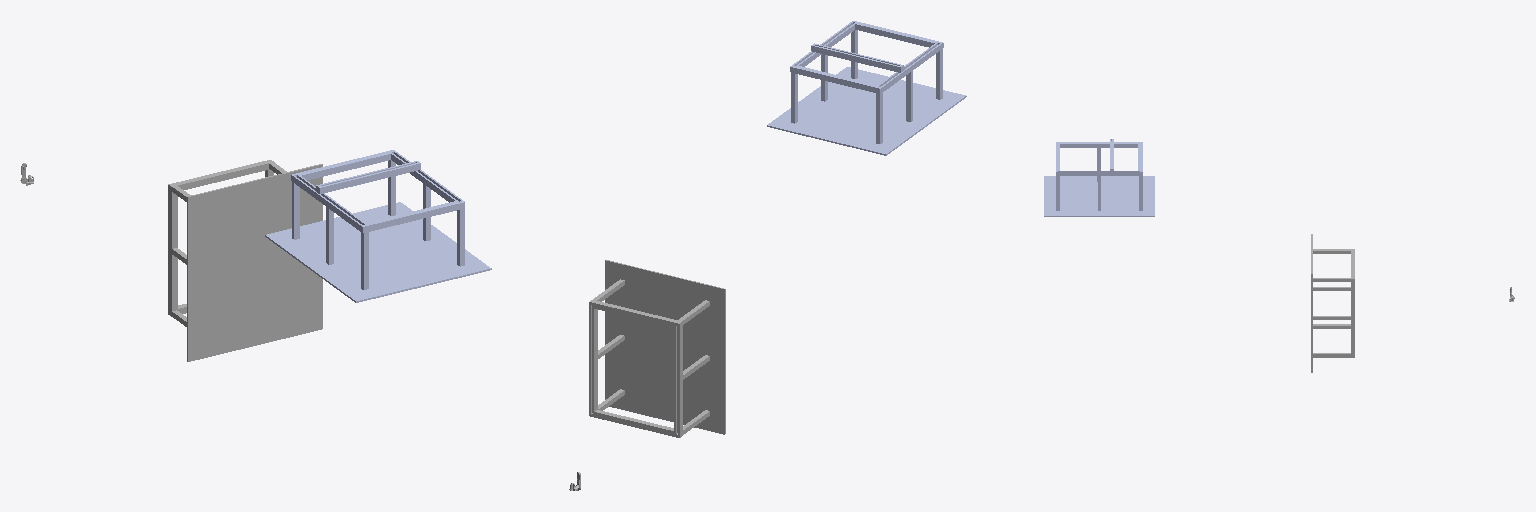
URDF robot description (test1):
<?xml version="1.0" encoding="utf-8"?>
<!-- This URDF was automatically created by SolidWorks to URDF Exporter! Originally created by [author] ([email redacted]) 
     Commit Version: 1.6.0-4-g7f85cfe  Build Version: 1.6.7995.38578
     For more information, please see http://wiki.ros.org/sw_urdf_exporter -->
<robot
  name="test1">
  <link
    name="x_link">
    <inertial>
      <origin
        xyz="-0.000354763107278133 1.1281100367493 0.00304919530374612"
        rpy="0 0 0" />
      <mass
        value="12293.2154089237" />
      <inertia
        ixx="64315.9848906651"
        ixy="1.81876022303276E-13"
        ixz="-9.96991833747582E-12"
        iyy="107061.453631538"
        iyz="-0.0502186982763303"
        izz="45881.0476517075" />
    </inertial>
    <visual>
      <origin
        xyz="0 0 0"
        rpy="0 0 0" />
      <geometry>
        <mesh
          filename="package://test1/meshes/x_link.STL" />
      </geometry>
      <material
        name="">
        <color
          rgba="0.792156862745098 0.819607843137255 0.933333333333333 1" />
      </material>
    </visual>
    <collision>
      <origin
        xyz="0 0 0"
        rpy="0 0 0" />
      <geometry>
        <mesh
          filename="package://test1/meshes/x_link.STL" />
      </geometry>
    </collision>
  </link>
  <link
    name="y_link">
    <inertial>
      <origin
        xyz="0.184000317107084 0.171530993196541 3.01867903369415"
        rpy="0 0 0" />
      <mass
        value="740.0303448616" />
      <inertia
        ixx="2278.62582732281"
        ixy="8.26960310125469E-12"
        ixz="1.09365858752522E-13"
        iyy="2279.87804604228"
        iyz="0.00203895408111143"
        izz="17.0621024004927" />
    </inertial>
    <visual>
      <origin
        xyz="0 0 0"
        rpy="0 0 0" />
      <geometry>
        <mesh
          filename="package://test1/meshes/y_link.STL" />
      </geometry>
      <material
        name="">
        <color
          rgba="0.792156862745098 0.819607843137255 0.933333333333333 1" />
      </material>
    </visual>
    <collision>
      <origin
        xyz="0 0 0"
        rpy="0 0 0" />
      <geometry>
        <mesh
          filename="package://test1/meshes/y_link.STL" />
      </geometry>
    </collision>
  </link>
  <joint
    name="link_xy"
    type="prismatic">
    <origin
      xyz="-2.9895 0.85226 3.7013"
      rpy="1.5708 0 1.5708" />
    <parent
      link="x_link" />
    <child
      link="y_link" />
    <axis
      xyz="1 0 0" />
    <limit
      lower="0"
      upper="0"
      effort="0"
      velocity="0" />
  </joint>
  <link
    name="base_link">
    <inertial>
      <origin
        xyz="0.368841461614903 7.2709511105501 17.0382479530342"
        rpy="0 0 0" />
      <mass
        value="645.325992510266" />
      <inertia
        ixx="213.993771610598"
        ixy="0.122391994933903"
        ixz="-0.000780740952564218"
        iyy="42.4394302906328"
        iyz="-0.000403300866969041"
        izz="227.813506684052" />
    </inertial>
    <visual>
      <origin
        xyz="0 0 0"
        rpy="0 0 0" />
      <geometry>
        <mesh
          filename="package://test1/meshes/base_link.STL" />
      </geometry>
      <material
        name="">
        <color
          rgba="0.752941176470588 0.752941176470588 0.752941176470588 1" />
      </material>
    </visual>
    <collision>
      <origin
        xyz="0 0 0"
        rpy="0 0 0" />
      <geometry>
        <mesh
          filename="package://test1/meshes/base_link.STL" />
      </geometry>
    </collision>
  </link>
  <joint
    name="joint_y_base"
    type="prismatic">
    <origin
      xyz="17.206 -7.5966 2.0856"
      rpy="3.1416 -1.5708 0" />
    <parent
      link="y_link" />
    <child
      link="base_link" />
    <axis
      xyz="1 0 0" />
    <limit
      lower="0"
      upper="0"
      effort="0"
      velocity="0" />
  </joint>
  <link
    name="link_1">
    <inertial>
      <origin
        xyz="0.153855504705664 -0.0108397146819006 -0.238341800873431"
        rpy="0 0 0" />
      <mass
        value="39.4879348922286" />
      <inertia
        ixx="0.824146327438887"
        ixy="-0.138842846387529"
        ixz="-0.162658613276987"
        iyy="1.53073717488185"
        iyz="0.0860282040099432"
        izz="1.62356182074888" />
    </inertial>
    <visual>
      <origin
        xyz="0 0 0"
        rpy="0 0 0" />
      <geometry>
        <mesh
          filename="package://test1/meshes/link_1.STL" />
      </geometry>
      <material
        name="">
        <color
          rgba="0.752941176470588 0.752941176470588 0.752941176470588 1" />
      </material>
    </visual>
    <collision>
      <origin
        xyz="0 0 0"
        rpy="0 0 0" />
      <geometry>
        <mesh
          filename="package://test1/meshes/link_1.STL" />
      </geometry>
    </collision>
  </link>
  <joint
    name="joint_1"
    type="continuous">
    <origin
      xyz="0.44563 5.7729 17.038"
      rpy="-1.5708 -0.35845 3.1416" />
    <parent
      link="base_link" />
    <child
      link="link_1" />
    <axis
      xyz="0 0 1" />
  </joint>
  <link
    name="link_2">
    <inertial>
      <origin
        xyz="0.020077810701725 0.14604602633964 0.394357429265651"
        rpy="0 0 0" />
      <mass
        value="26.2237776809978" />
      <inertia
        ixx="2.76302920932462"
        ixy="-0.00293373511569456"
        ixz="-0.0192629679742232"
        iyy="2.85009012668907"
        iyz="-0.0316899725325808"
        izz="0.1560376433294" />
    </inertial>
    <visual>
      <origin
        xyz="0 0 0"
        rpy="0 0 0" />
      <geometry>
        <mesh
          filename="package://test1/meshes/link_2.STL" />
      </geometry>
      <material
        name="">
        <color
          rgba="0.752941176470588 0.752941176470588 0.752941176470588 1" />
      </material>
    </visual>
    <collision>
      <origin
        xyz="0 0 0"
        rpy="0 0 0" />
      <geometry>
        <mesh
          filename="package://test1/meshes/link_2.STL" />
      </geometry>
    </collision>
  </link>
  <joint
    name="joint_2"
    type="continuous">
    <origin
      xyz="0.32 0 -0.1973"
      rpy="0 -0.001716 0" />
    <parent
      link="link_1" />
    <child
      link="link_2" />
    <axis
      xyz="0 1 0" />
  </joint>
</robot>

--- What the picture shows (computed from the rendered views, not written in the file) ---
3 views of the same robot in one strip: view 1: azimuth 30°, elevation 25°; view 2: azimuth 150°, elevation 25°; view 3: azimuth 270°, elevation 25° (orthographic).
Robot: test1 — 5 links, 4 joints (2 continuous, 2 prismatic); root link x_link; default pose: every joint at zero.
Visible links, largest first — view 1: base_link, x_link, y_link; view 2: base_link, x_link, y_link; view 3: x_link, base_link.
Boxes of the visible links, x1=… form: base_link: x1=168, y1=160, x2=322, y2=361; x_link: x1=265, y1=150, x2=491, y2=302; y_link: x1=316, y1=161, x2=420, y2=193; base_link: x1=589, y1=260, x2=725, y2=437; x_link: x1=767, y1=21, x2=966, y2=155; y_link: x1=811, y1=43, x2=903, y2=72; x_link: x1=1044, y1=142, x2=1154, y2=216; base_link: x1=1311, y1=234, x2=1354, y2=372.
Size in the robot's own frame: 11.18 by 40.14 by 17.34 metres.
5 mesh visuals loaded from 5 distinct referenced files (5 binary STL).